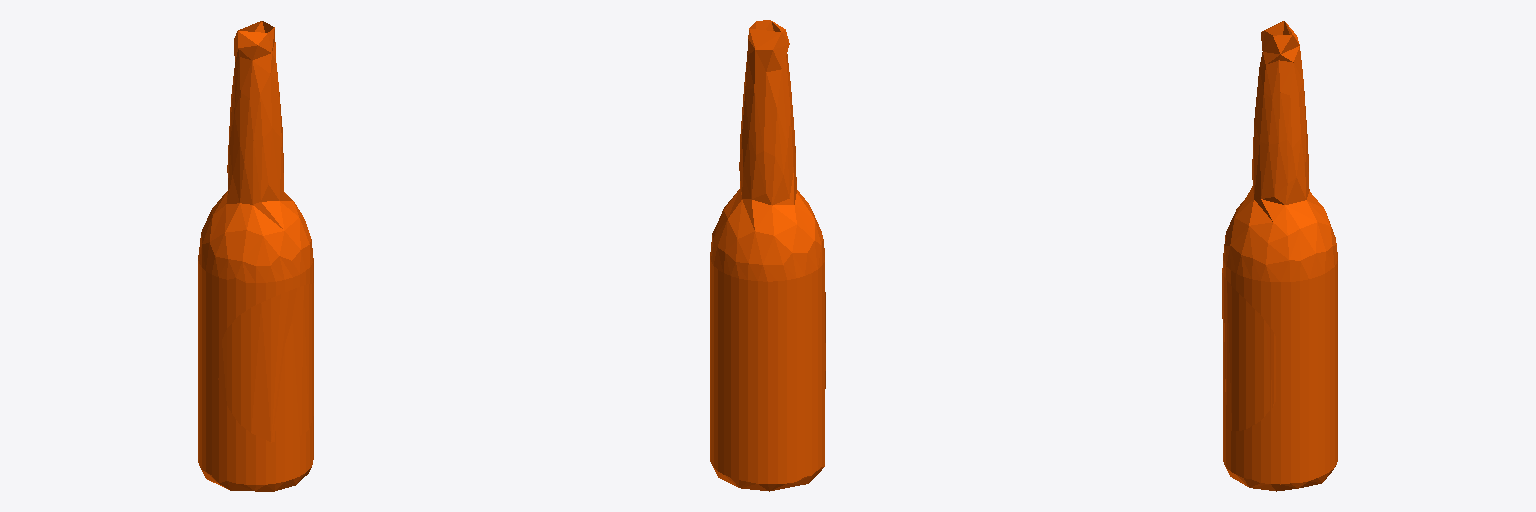
The robot description file, URDF, robot "BeerBottle_412289ded0359b326802d3678aa9d56b":
<?xml version="1.0" ?>
<robot name="BeerBottle_412289ded0359b326802d3678aa9d56b">
   <material name="obj_color">
      <color rgba="1.0 0.423529411765 0.0392156862745 1.0"/>
   </material>
   <link name="top">
      <inertial>
         <origin rpy="0.0006139009626601865 0.006284609067185523 0.00628854690205618" xyz="-0.0001121717696092797 0.000113417698988338 -0.03642487749674062"/>
         <mass value="1.008477412172394"/>
         <inertia ixx="0.006288544064550998" ixy="-1.057800038331964e-07" ixz="-9.695025378683734e-08" iyy="0.006284599475260961" iyz="-8.394886871132995e-06" izz="0.0006139133920899314"/>
      </inertial>
      <visual>
         <origin rpy="0 0 0" xyz="0 0 0"/>
         <geometry>
            <mesh filename="top_watertight_tiny.stl" scale="1 1 1"/>
         </geometry>
         <material name="obj_color"/>
      </visual>
      <collision>
         <origin rpy="0 0 0" xyz="0 0 0"/>
         <geometry>
            <mesh filename="top_watertight_tiny.obj" scale="1 1 1"/>
         </geometry>
      </collision>
   </link>
   <link name="bottom">
      <inertial>
         <origin rpy="1.633333333331402e-08 1.633333333331402e-08 1.633333333331402e-08" xyz="0.08660200000000004 0.08660200000000004 0.08660200000000004"/>
         <mass value="0.0009800000000000026"/>
         <inertia ixx="1.633333333331402e-08" ixy="-0" ixz="-0" iyy="1.633333333331402e-08" iyz="-0" izz="1.633333333331402e-08"/>
      </inertial>
      <visual>
         <origin rpy="0 0 0" xyz="0 0 0"/>
         <geometry>
            <mesh filename="bottom_watertight_tiny.stl" scale="1 1 1"/>
         </geometry>
         <material name="obj_color"/>
      </visual>
   </link>
   <link name="world"/>
   <joint name="world_to_base" type="fixed">
      <origin xyz="0 0 0"/>
      <axis xyz="0 0 0"/>
      <parent link="world"/>
      <child link="bottom"/>
   </joint>
   <joint name="rotation" type="revolute">
      <origin xyz="0 0 0"/>
      <axis xyz="0 0 -1"/>
      <parent link="bottom"/>
      <child link="top"/>
      <dynamics damping="1.0" friction="1.0"/>
      <limit effort="0.1" velocity="0.1" lower="0" upper="0.001"/>
   </joint>
</robot>

--- Facts derived from the render (not from the file) ---
The picture shows the robot from 3 angles, left to right: view 1: azimuth 30°, elevation 25°; view 2: azimuth 150°, elevation 25°; view 3: azimuth 270°, elevation 25°; orthographic projection.
Robot: BeerBottle_412289ded0359b326802d3678aa9d56b — 3 links, 2 joints (1 revolute, 1 fixed); root link world; default pose: every joint at zero.
Visible links, largest first — view 1: top; view 2: top; view 3: top.
Link boxes in pixels (<box>): top: <box>198,21,313,491</box>; top: <box>710,20,825,491</box>; top: <box>1222,21,1337,491</box>.
Size in the robot's own frame: 0.0747 by 0.0753 by 0.3159 metres.
Meshes: 2 distinct files referenced, 1 mesh visuals loaded (1 binary STL); not drawn: 1 (reference not matched to a file when rendering).